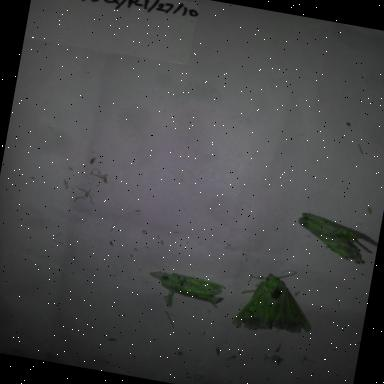abw: (233, 264, 327, 346), (142, 250, 240, 316), (291, 206, 378, 271)
